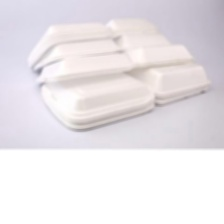foam_box: (37, 59, 214, 135), (23, 11, 196, 85)
